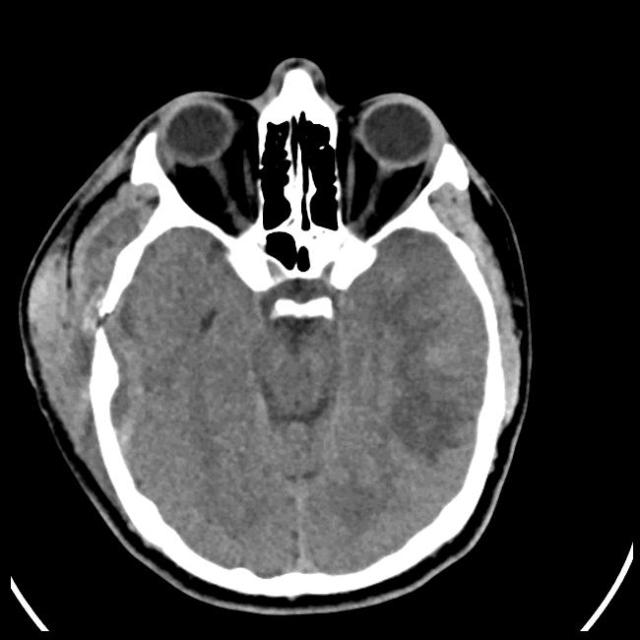lesion: (21, 56, 534, 608)
